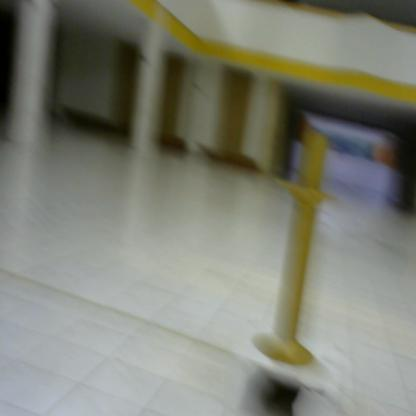pole: (258, 127, 348, 386)
